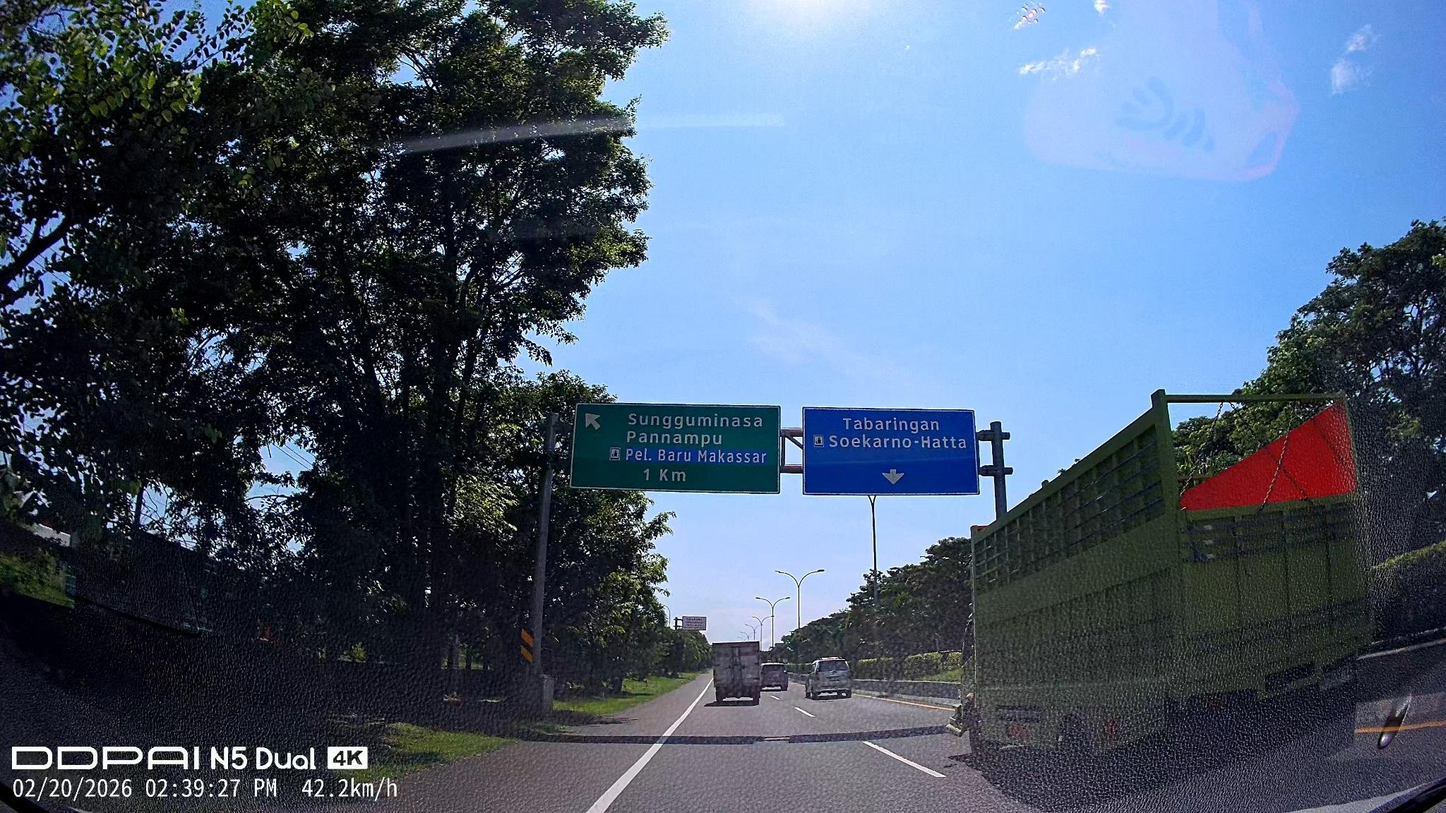rambu_teks: (568, 402, 781, 496), (801, 406, 981, 496)
